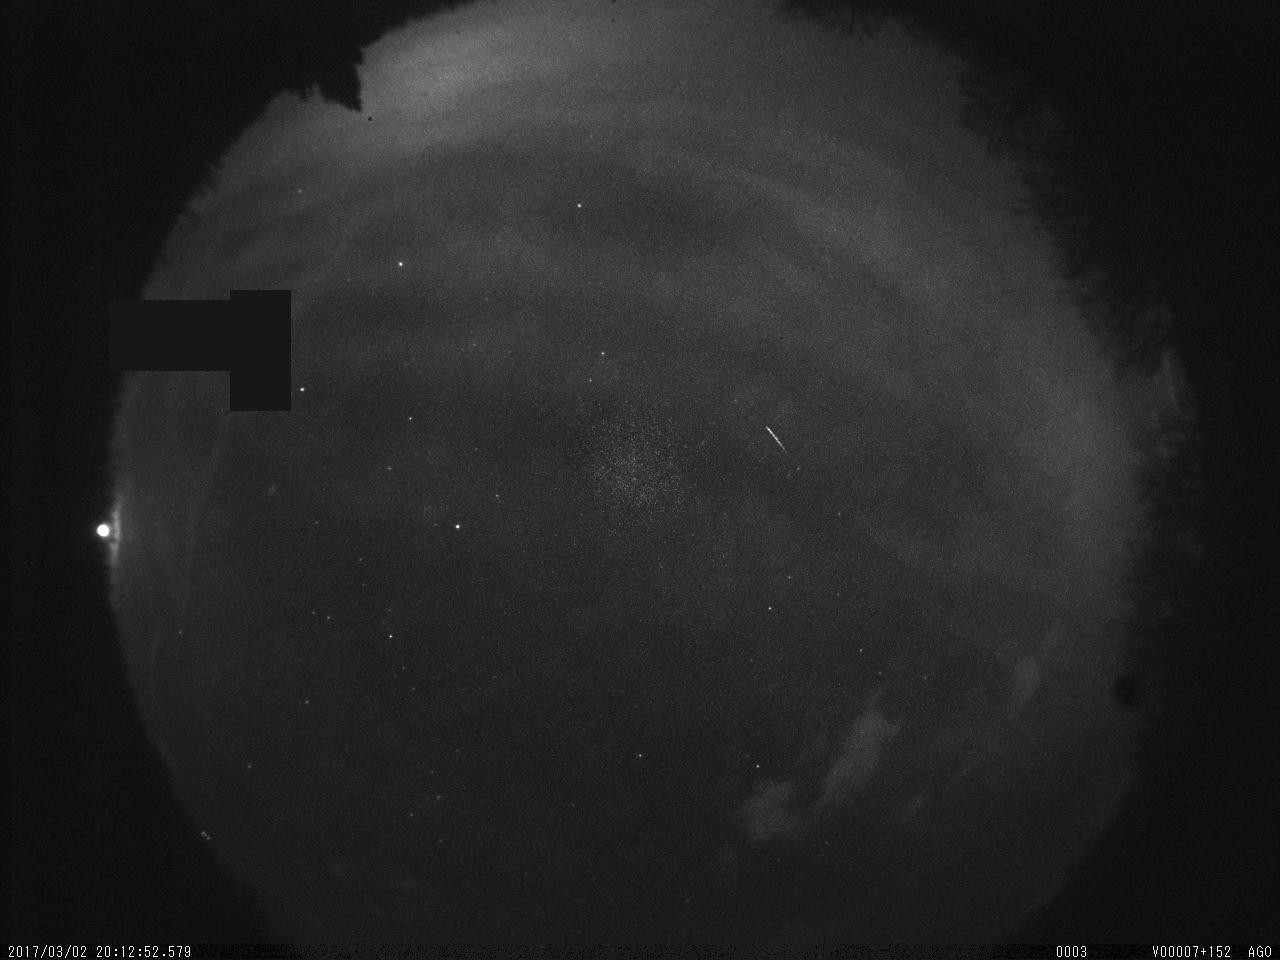meteor: (756, 421, 805, 466)
